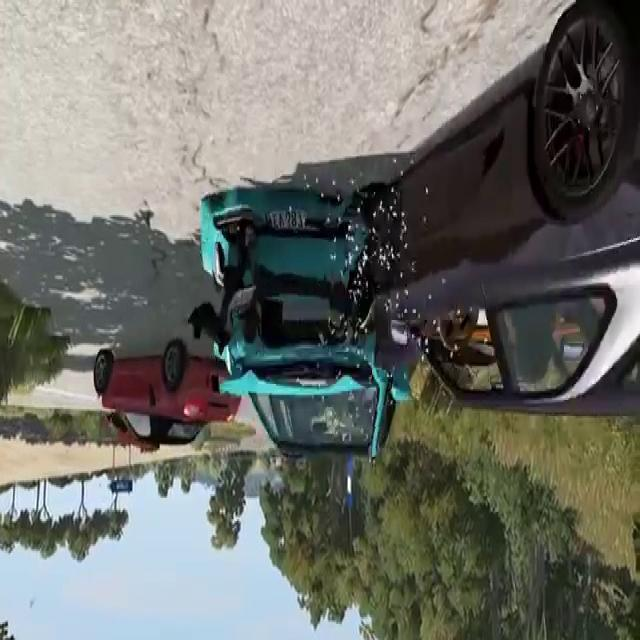moderate: (189, 0, 640, 482)
